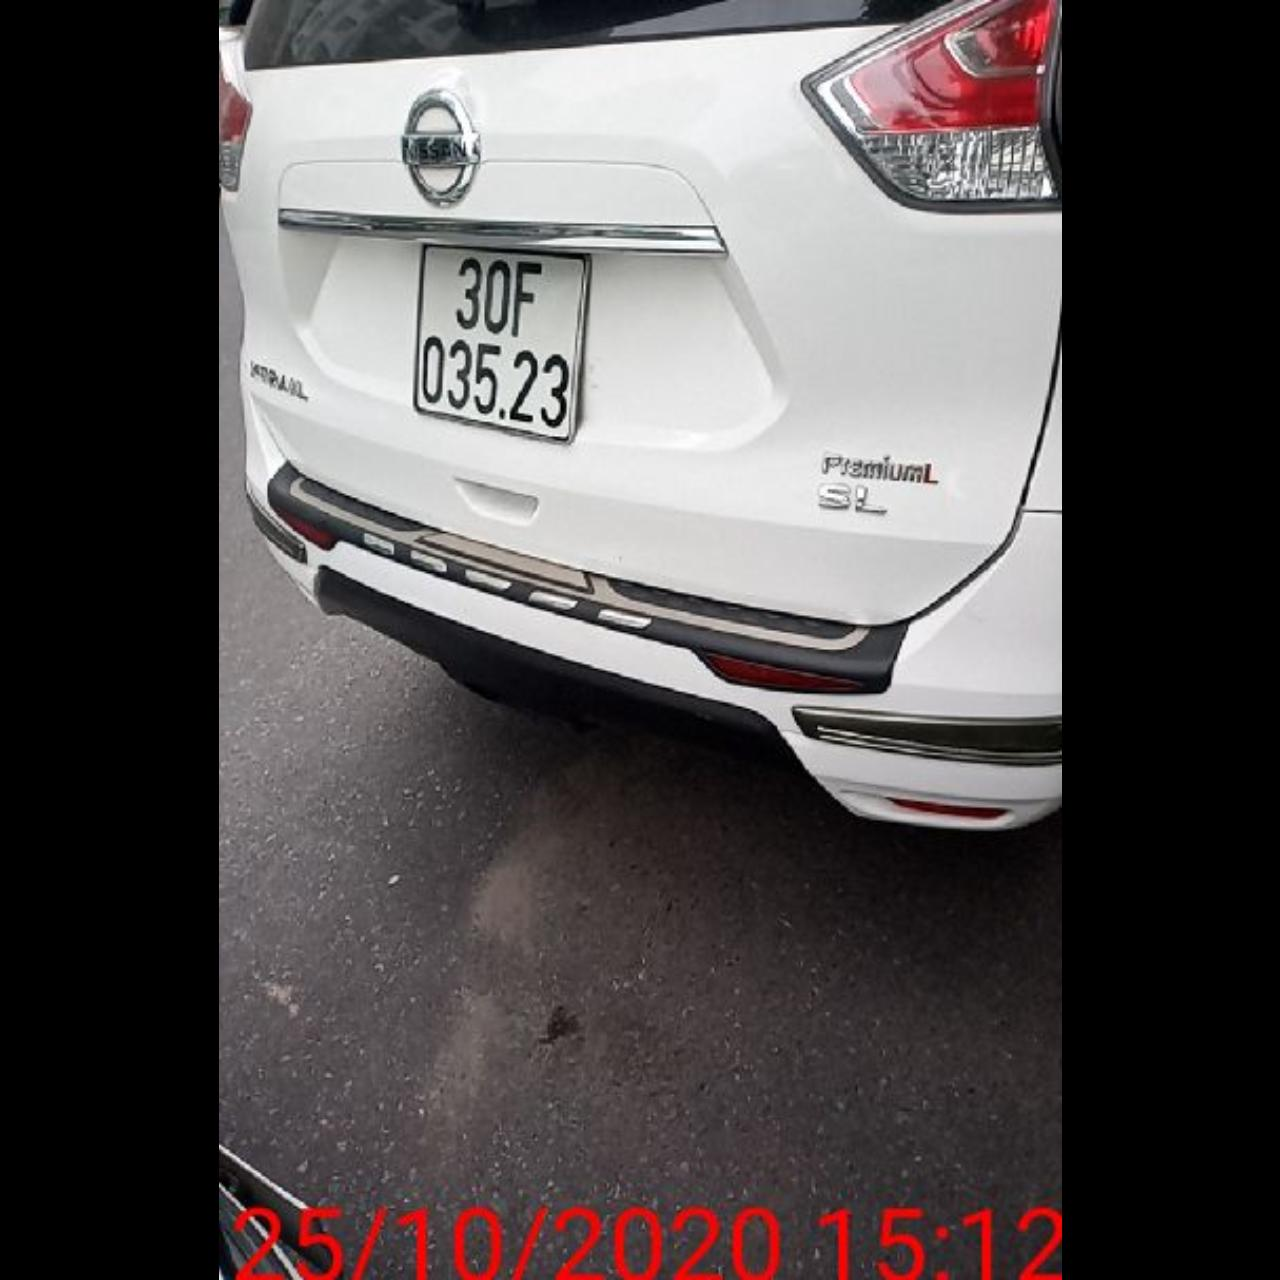bienso: (408, 237, 592, 448)
